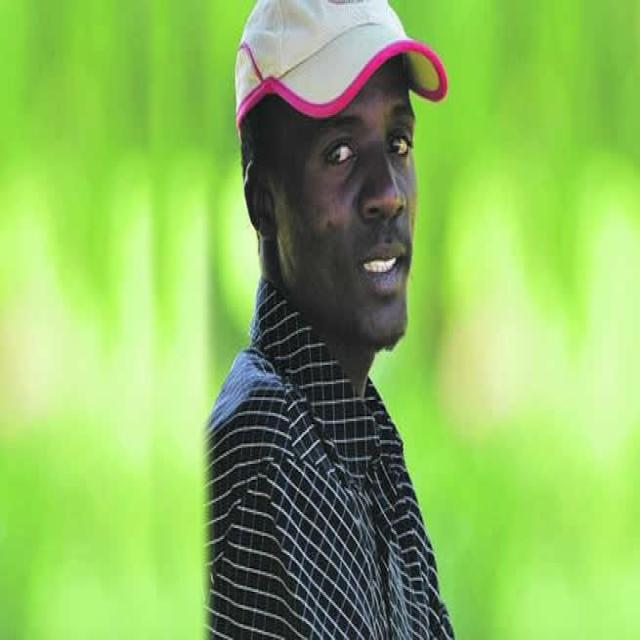mobile_phonerotation: (200, 0, 458, 637)
